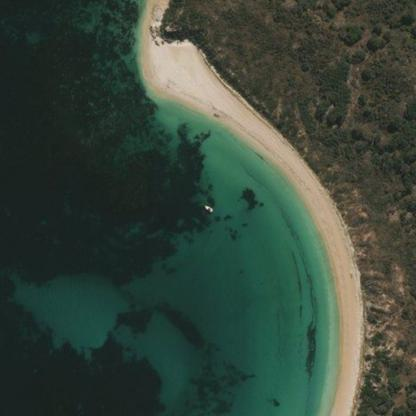ship: (37, 204, 45, 212)
